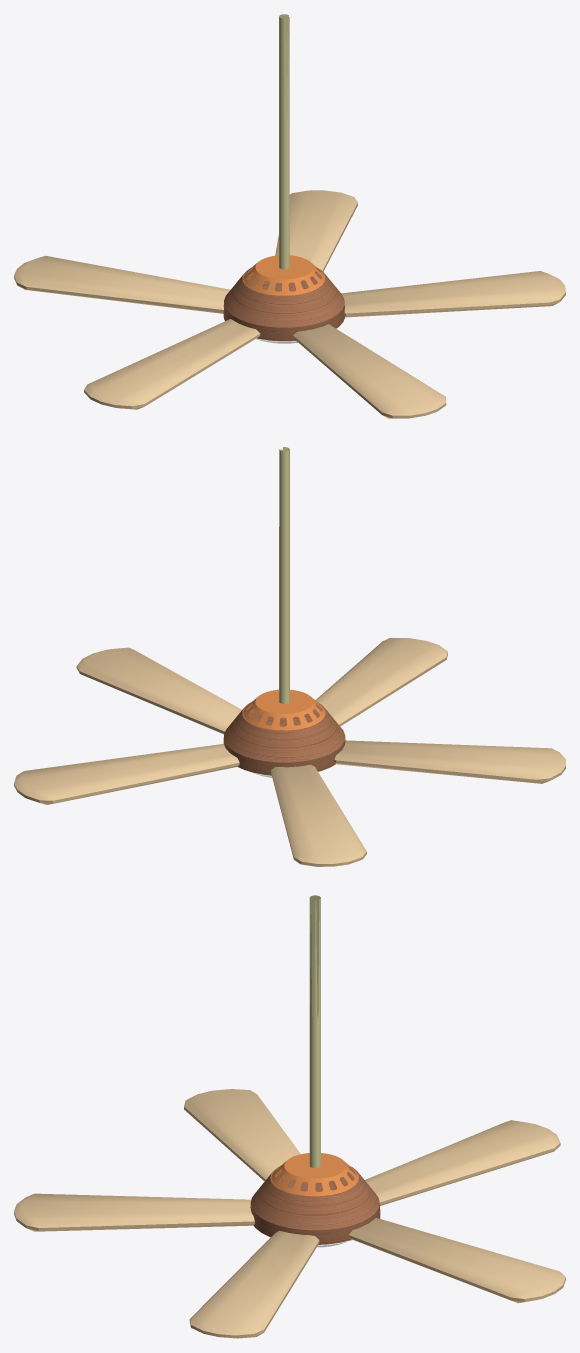
Rendered from fan.gltf.
3 views of the same model, one above another, from view 1: azimuth 30°, elevation 25°; view 2: azimuth 150°, elevation 25°; view 3: azimuth 270°, elevation 25° (orthographic). The views are drawn at different scales.
Parts seen in each view (by area): view 1: blades, middle-fan, pole, top-fan, bladeholder-fan; view 2: blades, middle-fan, pole, top-fan, bladeholder-fan; view 3: blades, middle-fan, pole, top-fan, bladeholder-fan.
Part boxes in pixels (left/top/right/bottom): blades: left=14, top=190, right=565, bottom=418; middle-fan: left=224, top=267, right=344, bottom=327; pole: left=279, top=14, right=289, bottom=269; top-fan: left=243, top=255, right=324, bottom=295; bladeholder-fan: left=223, top=300, right=344, bottom=341; blades: left=14, top=638, right=565, bottom=866; middle-fan: left=223, top=702, right=344, bottom=762; pole: left=279, top=447, right=289, bottom=703; top-fan: left=243, top=689, right=325, bottom=730; bladeholder-fan: left=223, top=730, right=345, bottom=775; blades: left=14, top=1089, right=565, bottom=1338; middle-fan: left=250, top=1166, right=379, bottom=1230; pole: left=309, top=895, right=320, bottom=1168; top-fan: left=271, top=1153, right=358, bottom=1196; bladeholder-fan: left=250, top=1203, right=380, bottom=1244.
Size of the model in its own units: 0.9352 by 0.5884 by 0.8859.
Materials: 4 (1 with a texture image).
